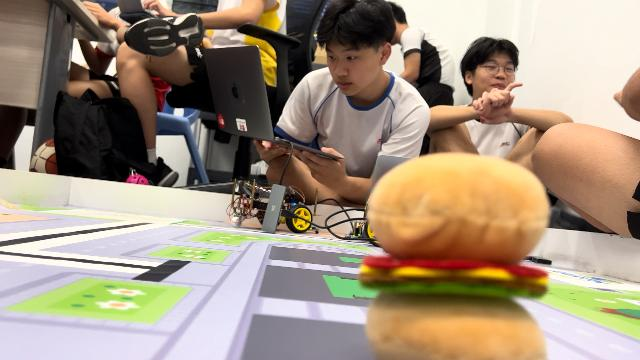burger: (363, 151, 554, 359)
